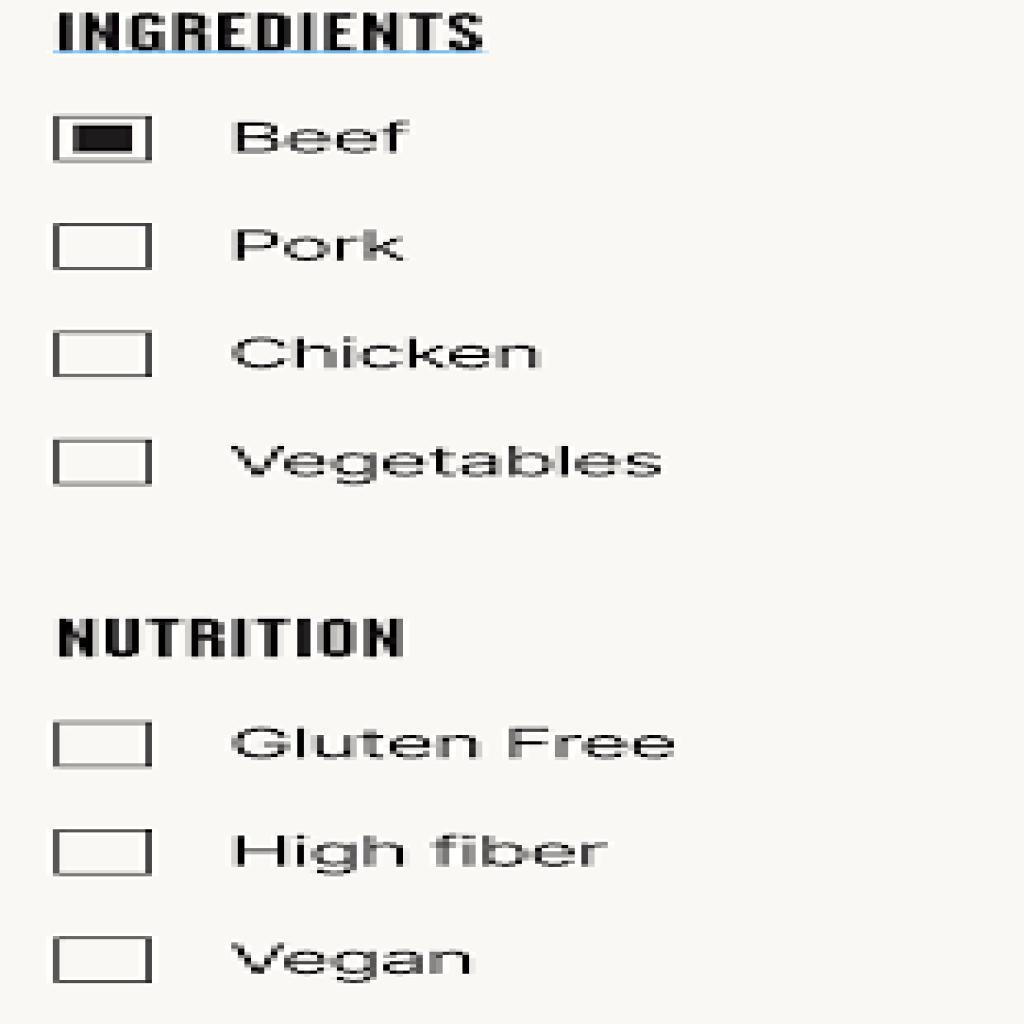checkbox: (56, 115, 154, 163), (55, 440, 152, 488), (56, 723, 152, 770), (55, 830, 149, 876), (54, 330, 152, 374), (55, 224, 148, 268), (55, 940, 152, 981)
